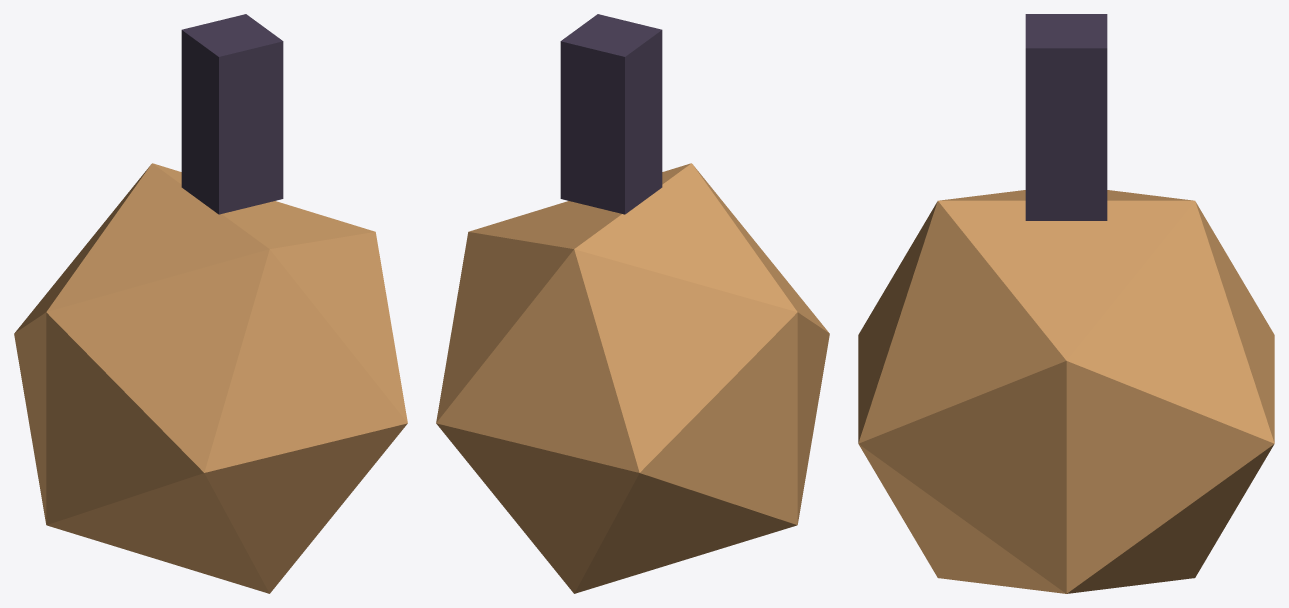
The model's file is orange.glb.
3 renders of one model, left to right at view 1: azimuth 30°, elevation 25°; view 2: azimuth 150°, elevation 25°; view 3: azimuth 270°, elevation 25°, orthographic. The views are drawn at different scales.
Visible parts, largest first — view 1: Fruit; view 2: Fruit; view 3: Fruit.
Part boxes in pixels (x1=…): Fruit: x1=14, y1=14, x2=407, y2=593; Fruit: x1=436, y1=14, x2=829, y2=593; Fruit: x1=858, y1=14, x2=1274, y2=593.
Size of the model in its own units: 0.3062 by 0.4531 by 0.3062.
